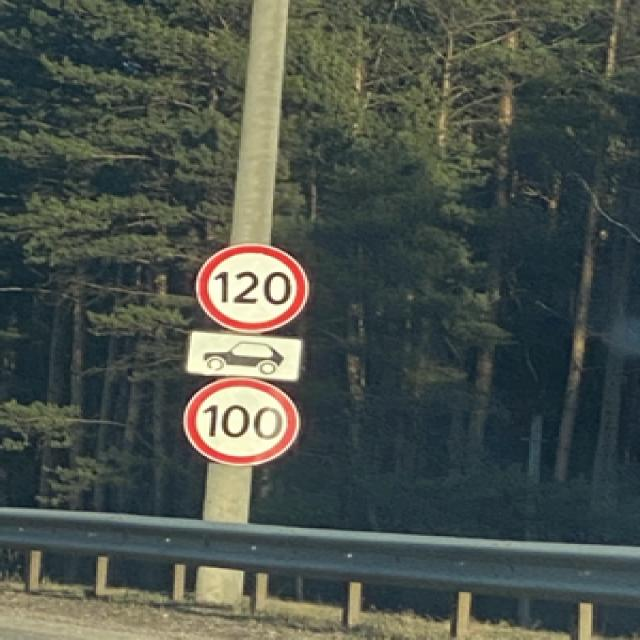speedlimit: (194, 243, 307, 331), (180, 378, 294, 464)
